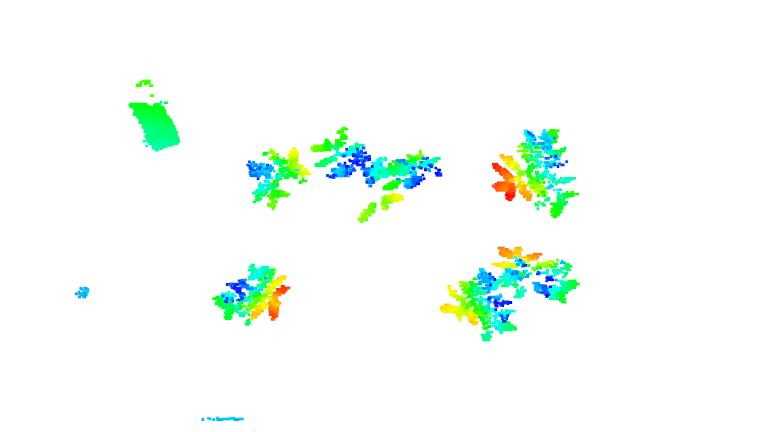chickpea: (309, 125, 404, 222), (489, 128, 583, 223), (437, 268, 520, 344), (212, 263, 292, 329), (492, 246, 579, 305), (246, 145, 308, 211), (380, 151, 445, 192)
